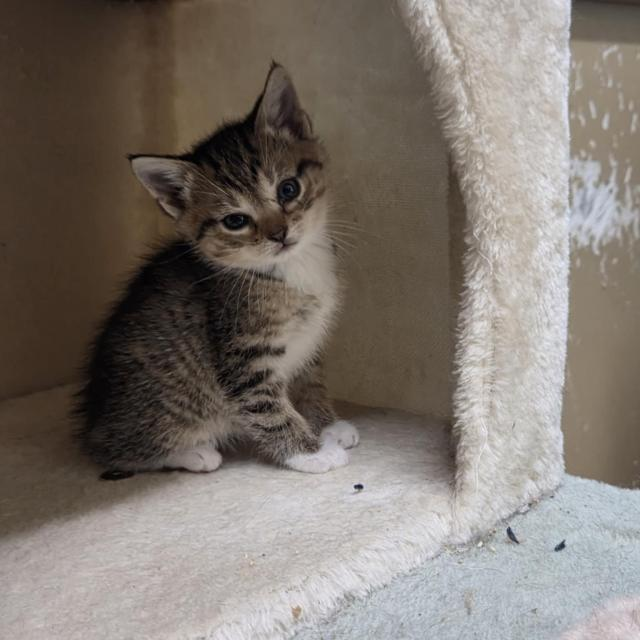manx_cat: (119, 54, 345, 293)
